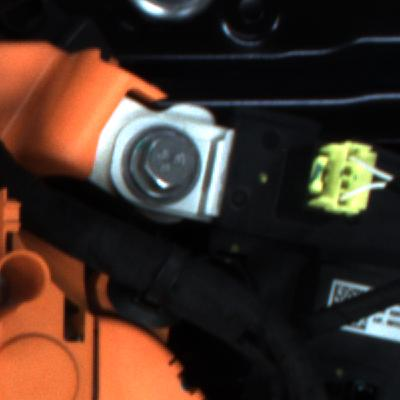nut_b: (119, 129, 211, 205)
